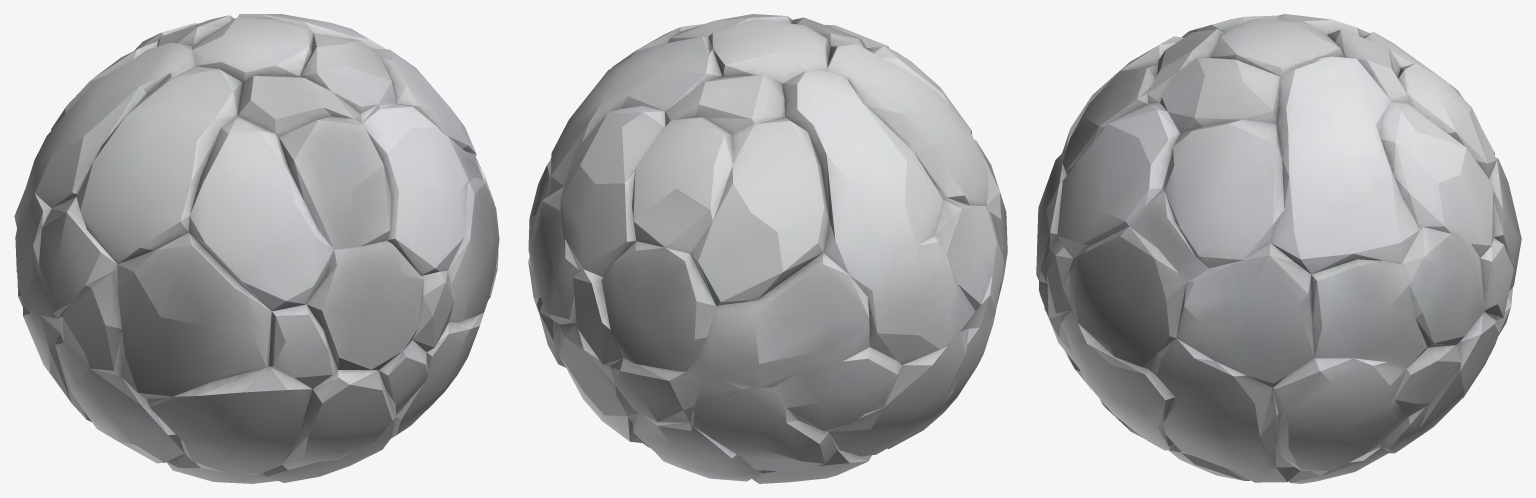
Rendered from ball.glb.
The picture shows the model from 3 angles, left to right: view 1: azimuth 30°, elevation 25°; view 2: azimuth 150°, elevation 25°; view 3: azimuth 270°, elevation 25°; orthographic projection.
Visible parts, largest first — view 1: model; view 2: model; view 3: model.
Boxes of the visible parts, bbox=[...] form: model: bbox=[14, 14, 499, 483]; model: bbox=[528, 14, 1007, 483]; model: bbox=[1036, 14, 1521, 483].
Size of the model in its own units: 1.89 by 1.85 by 1.91.
Materials: 1 (1 with a texture image).
